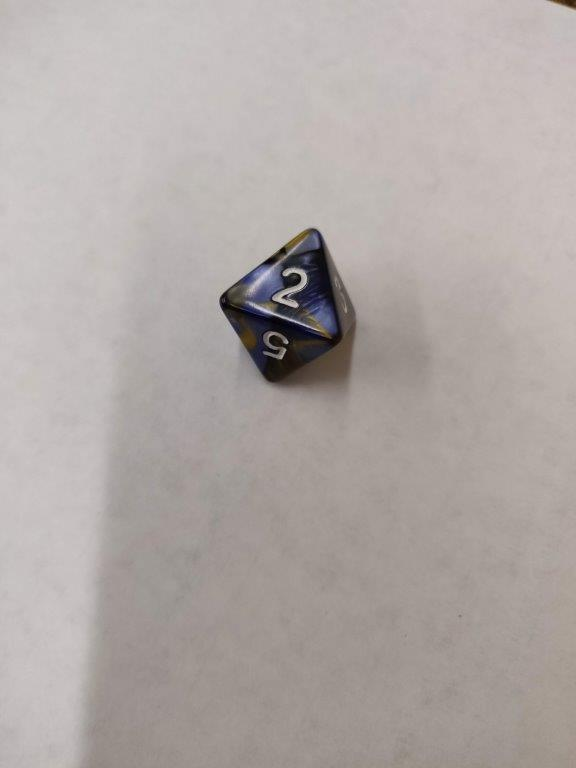d8-2: (220, 226, 356, 385)
